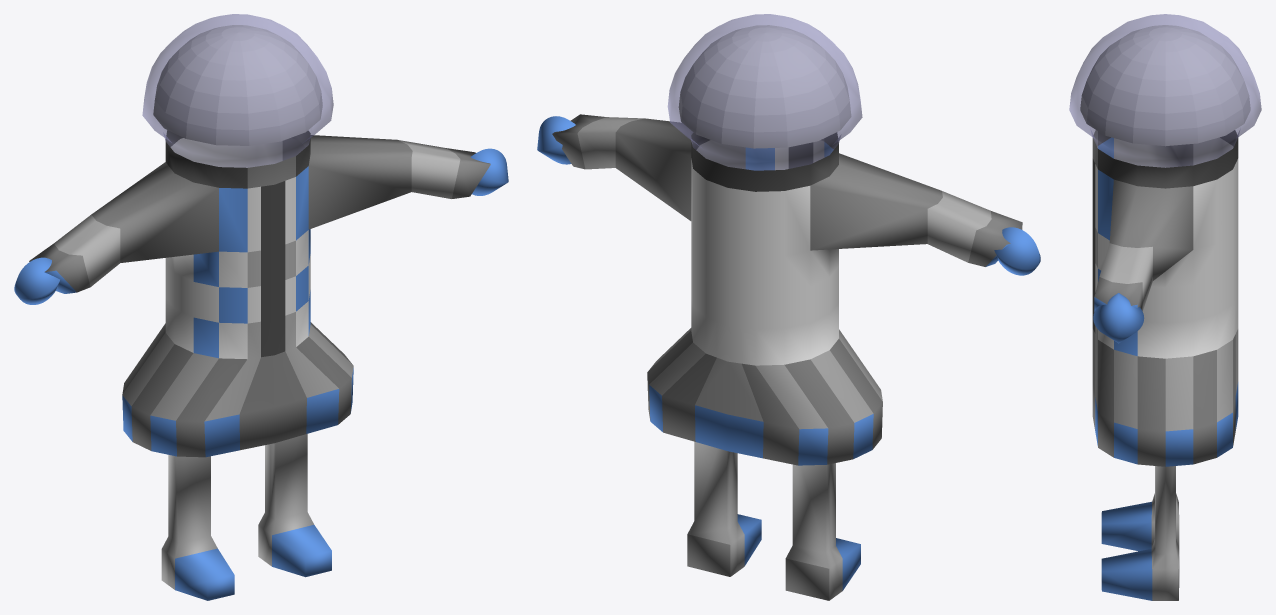
The model's file is astronaut.fbx.
3 renders of one model, left to right at view 1: azimuth 30°, elevation 25°; view 2: azimuth 150°, elevation 25°; view 3: azimuth 270°, elevation 25°, orthographic. The views are drawn at different scales.
Visible parts, largest first — view 1: Sphere.001, Sphere; view 2: Sphere.001, Sphere; view 3: Sphere.001, Sphere.
Part boxes in pixels (x1=…): Sphere.001: x1=14, y1=14, x2=508, y2=600; Sphere: x1=153, y1=25, x2=322, y2=145; Sphere.001: x1=537, y1=14, x2=1040, y2=600; Sphere: x1=678, y1=25, x2=851, y2=148; Sphere.001: x1=1069, y1=14, x2=1261, y2=600; Sphere: x1=1080, y1=25, x2=1250, y2=146.
Bounding box in the file's own units: 663 × 704 × 226.
